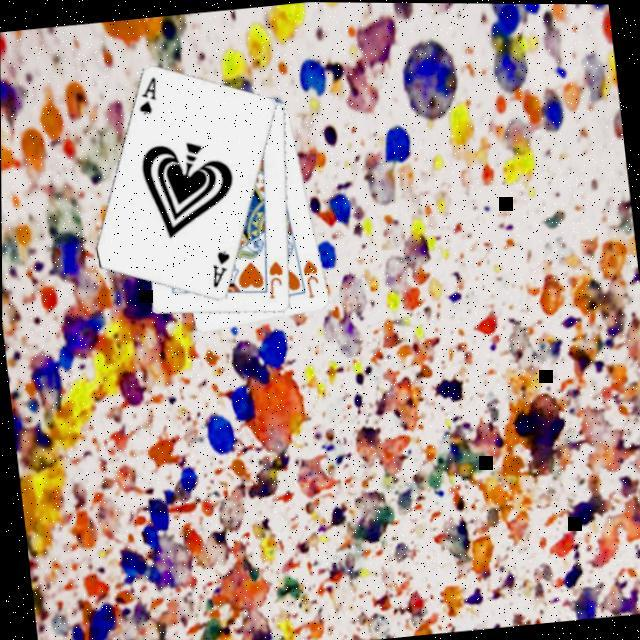AS: (130, 74, 160, 120), (203, 248, 233, 292)
JH: (296, 257, 321, 303), (260, 259, 286, 303)
